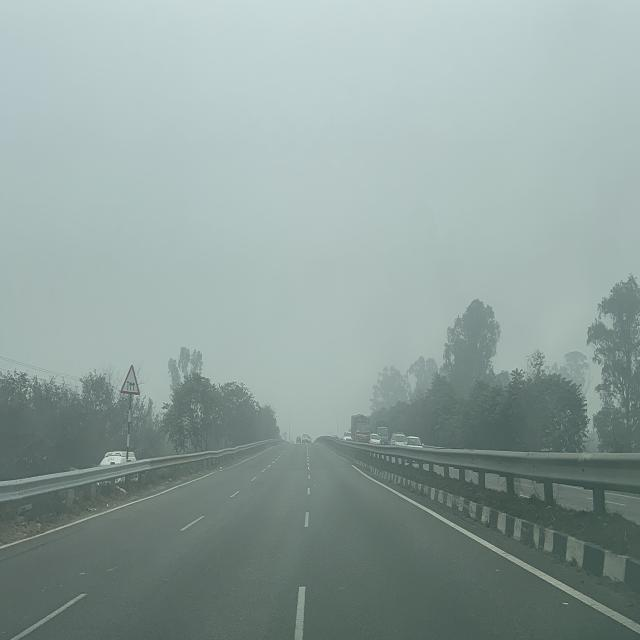WARNING: (120, 364, 141, 396)
